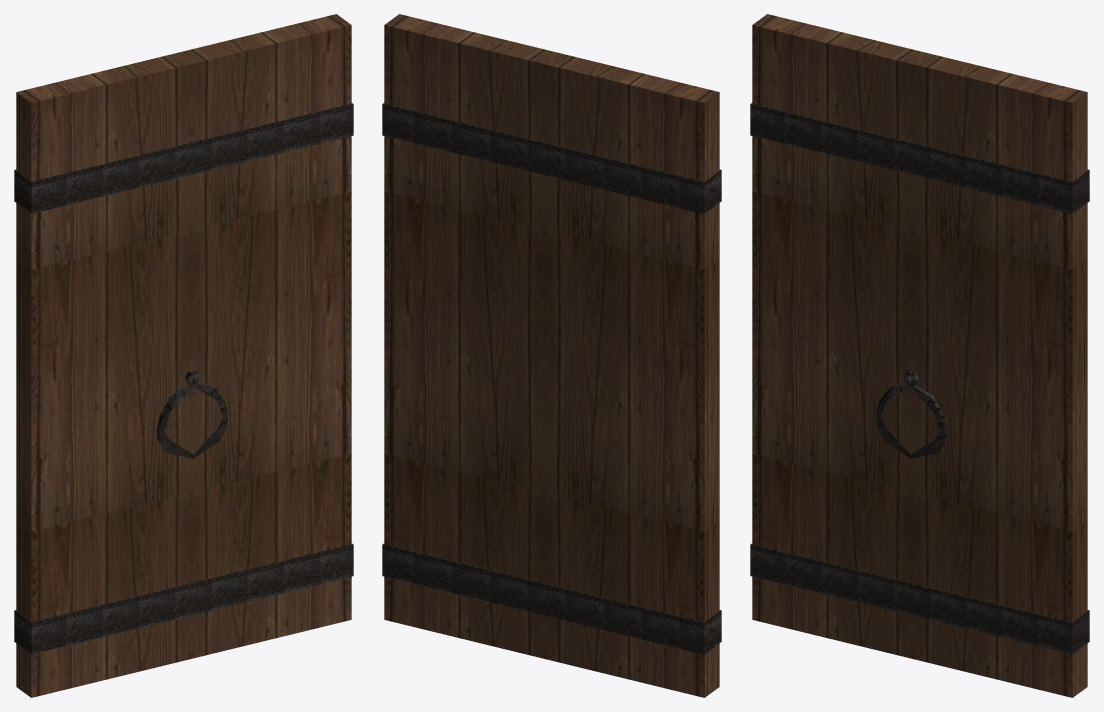
Rendered from Door 1.fbx.
3 renders of one model, left to right at view 1: azimuth 30°, elevation 25°; view 2: azimuth 150°, elevation 25°; view 3: azimuth 330°, elevation 25°, orthographic.
Parts seen in each view (by area): view 1: Door; view 2: Door; view 3: Door.
Part boxes in pixels (<box>): Door: <box>14,14,353,697</box>; Door: <box>382,14,721,697</box>; Door: <box>750,14,1089,697</box>.
Bounding box in the file's own units: 1032 × 1821 × 102.
